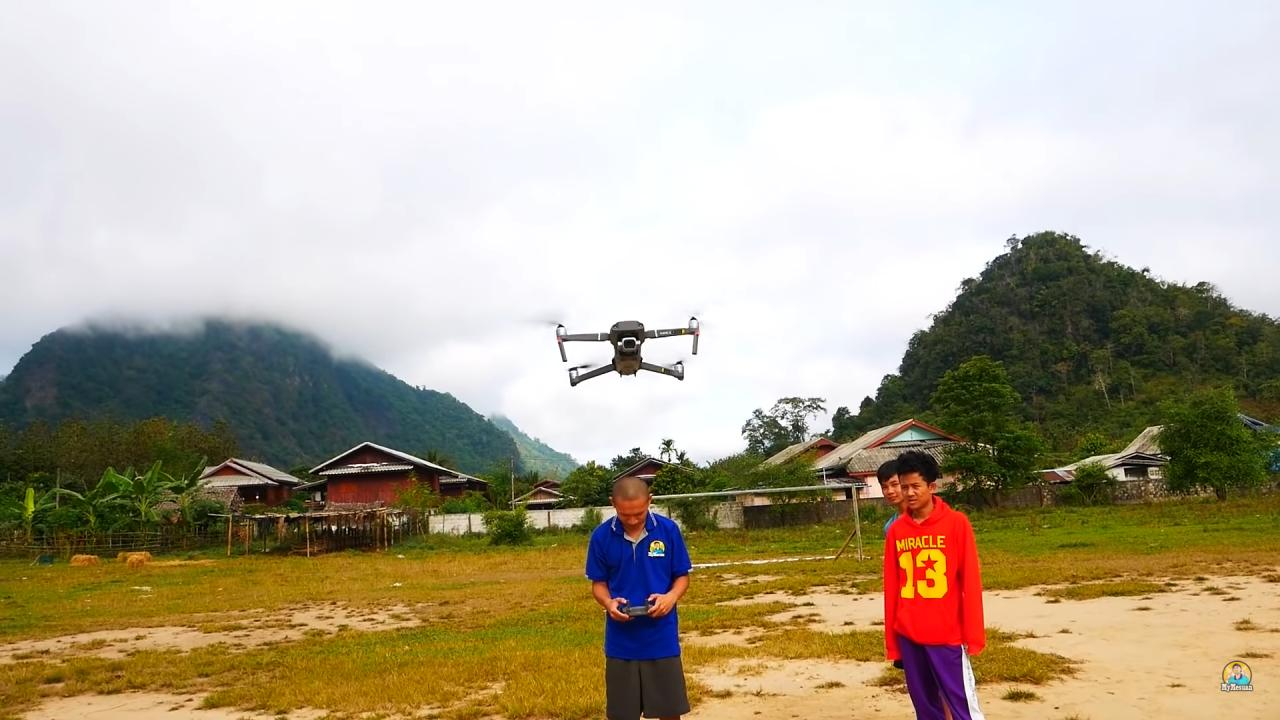Drone: (515, 289, 717, 397)
